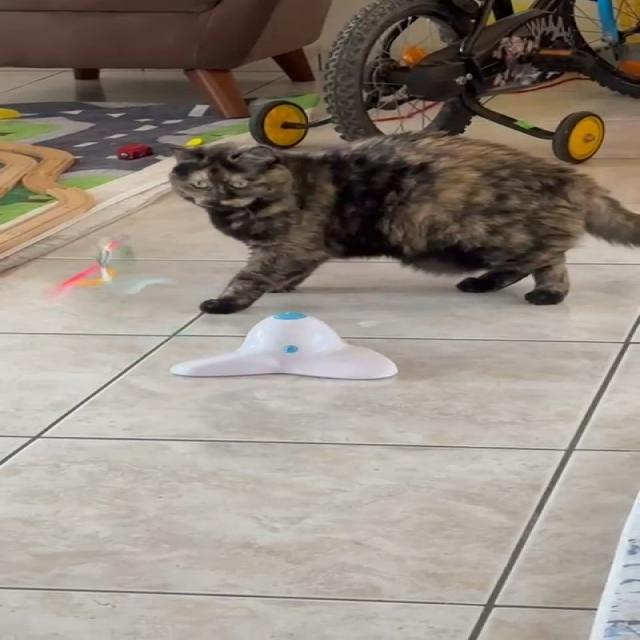authorized: (166, 129, 638, 314)
